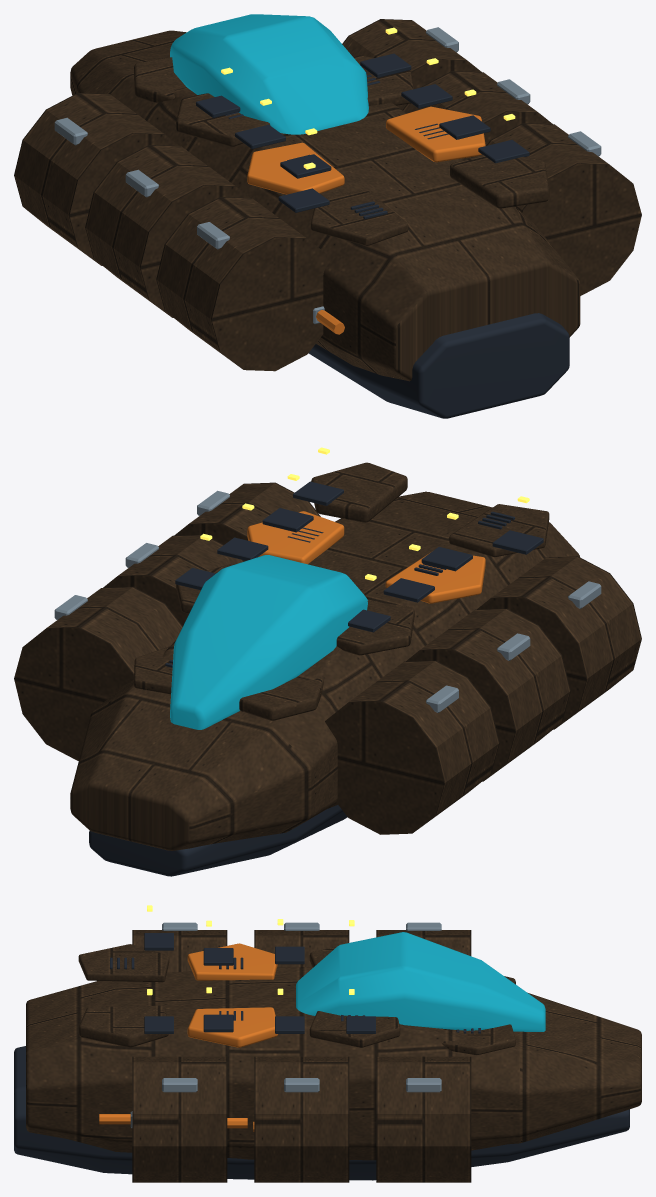
File: caravan.glb
The picture shows the model from 3 angles, top to bottom: view 1: azimuth 30°, elevation 25°; view 2: azimuth 150°, elevation 25°; view 3: azimuth 270°, elevation 25°; orthographic projection. The views are drawn at different scales.
Parts seen in each view (by area): view 1: Gôndola do motor.011 · exportação, Bocal do motor.011 · exportação, Cabine panorâmica.005 · exportação, Colar da turbina.034 · exportação, Aleta do bocal.095 · exportação; view 2: Gôndola do motor.011 · exportação, Cabine panorâmica.005 · exportação, Bocal do motor.011 · exportação, Colar da turbina.034 · exportação, Aleta do bocal.095 · exportação; view 3: Gôndola do motor.011 · exportação, Cabine panorâmica.005 · exportação, Bocal do motor.011 · exportação, Colar da turbina.034 · exportação, Aleta do bocal.095 · exportação.
Boxes of the visible parts, x1,y1,x2,y2 form: Gôndola do motor.011 · exportação: (14,19,641,381); Bocal do motor.011 · exportação: (196,53,569,418); Cabine panorâmica.005 · exportação: (170,14,368,134); Colar da turbina.034 · exportação: (247,106,485,334); Aleta do bocal.095 · exportação: (54,27,601,323); Gôndola do motor.011 · exportação: (14,462,641,850); Cabine panorâmica.005 · exportação: (170,555,367,729); Bocal do motor.011 · exportação: (89,481,543,876); Colar da turbina.034 · exportação: (247,511,485,603); Aleta do bocal.095 · exportação: (54,490,601,712); Gôndola do motor.011 · exportação: (26,930,641,1182); Cabine panorâmica.005 · exportação: (296,932,545,1031); Bocal do motor.011 · exportação: (14,933,629,1180); Colar da turbina.034 · exportação: (99,943,277,1131); Aleta do bocal.095 · exportação: (130,922,441,1127).
Bounding box in the file's own units: 35.84 × 19.37 × 52.84.
7 materials, 1 textured.
